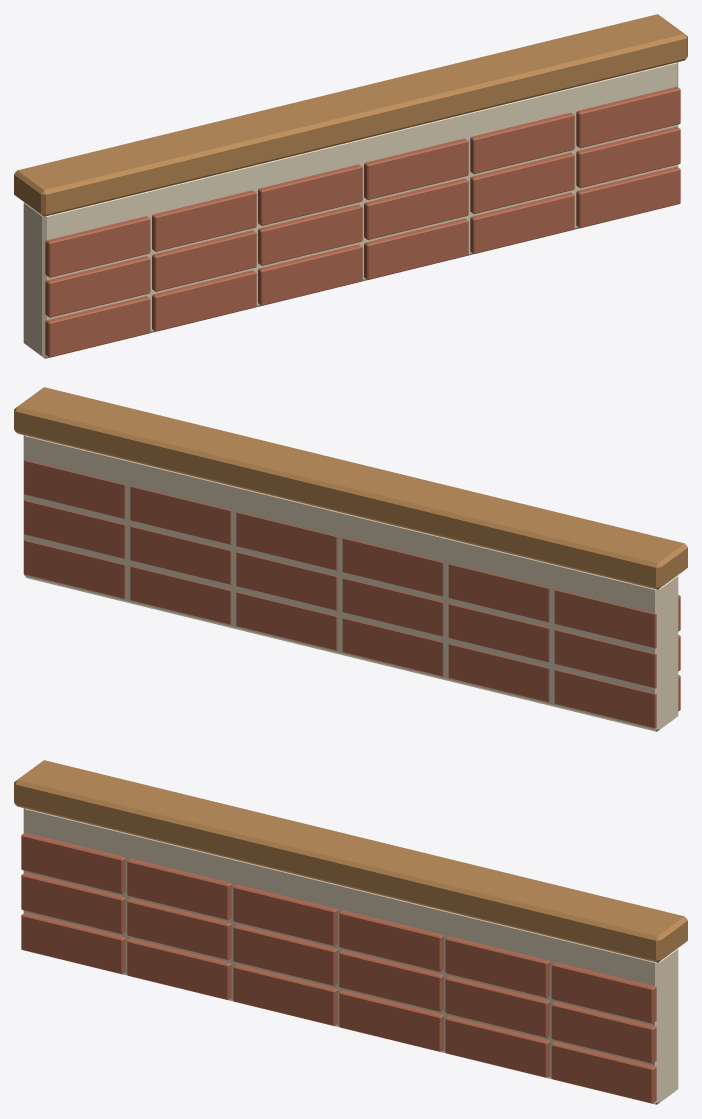
The model's file is wall-low.glb.
The picture shows the model from 3 angles, top to bottom: view 1: azimuth 30°, elevation 25°; view 2: azimuth 150°, elevation 25°; view 3: azimuth 330°, elevation 25°; orthographic projection.
Visible parts, largest first — view 1: wall_low; view 2: wall_low; view 3: wall_low.
Part boxes in pixels (x1=…): wall_low: x1=14, y1=14, x2=687, y2=358; wall_low: x1=14, y1=387, x2=687, y2=731; wall_low: x1=14, y1=760, x2=687, y2=1104.
Bounding box in the file's own units: 3.05 × 0.78 × 0.25.
